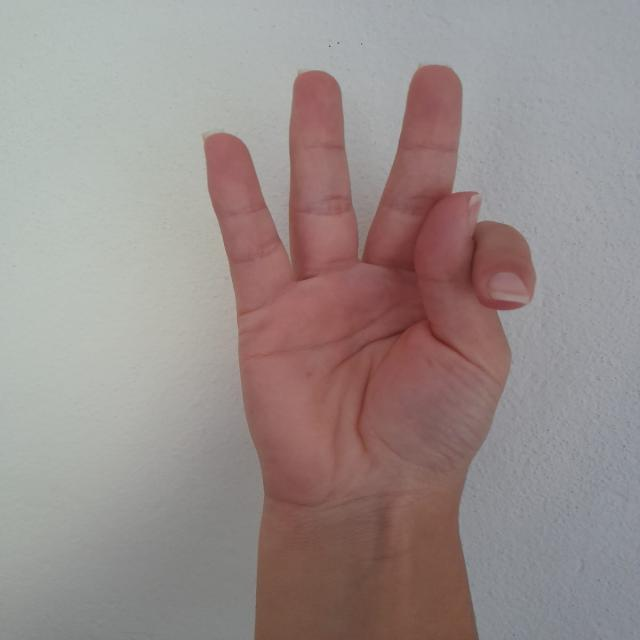T: (197, 56, 544, 460)
